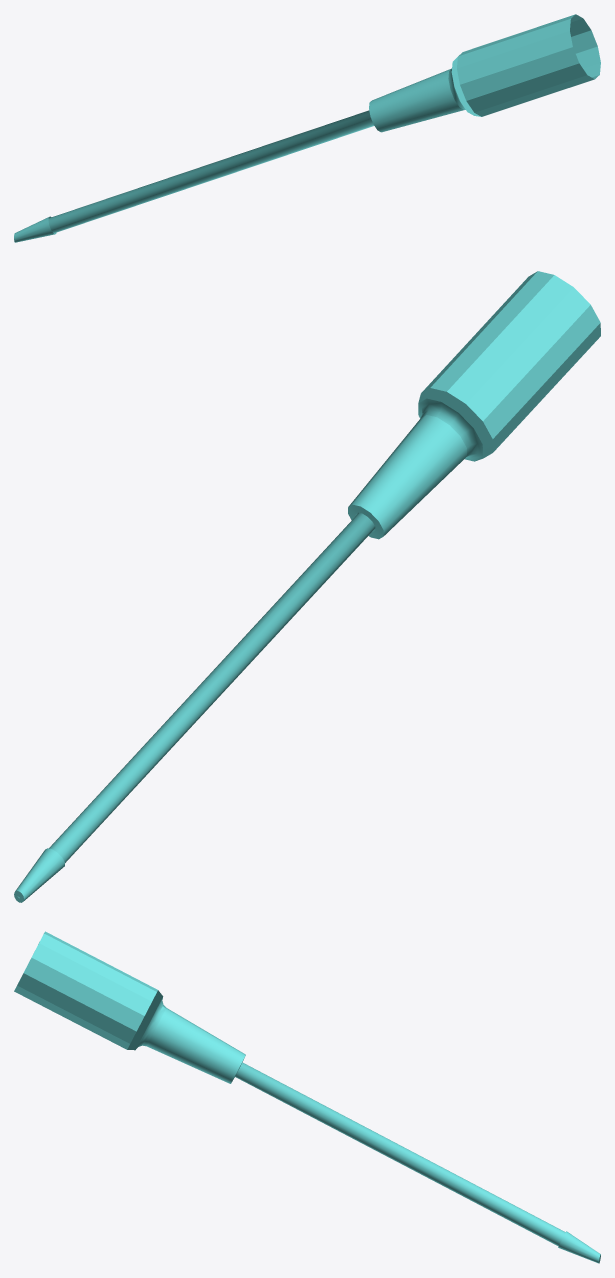
Rendered from GuidedCath_Animated.fbx.
3 renders of one model, top to bottom at view 1: azimuth 90°, elevation 25°; view 2: azimuth 150°, elevation 25°; view 3: azimuth 270°, elevation 25°, orthographic. The views are drawn at different scales.
Parts seen in each view (by area): view 1: sy_Shape_2; view 2: sy_Shape_2; view 3: sy_Shape_2.
Boxes of the visible parts, x1=… form: sy_Shape_2: x1=14, y1=14, x2=600, y2=242; sy_Shape_2: x1=14, y1=271, x2=600, y2=902; sy_Shape_2: x1=14, y1=931, x2=600, y2=1263.
Bounding box in the file's own units: 2.13 × 3.97 × 7.63.
